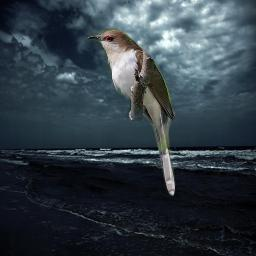Cuckoo: (85, 28, 176, 197)
